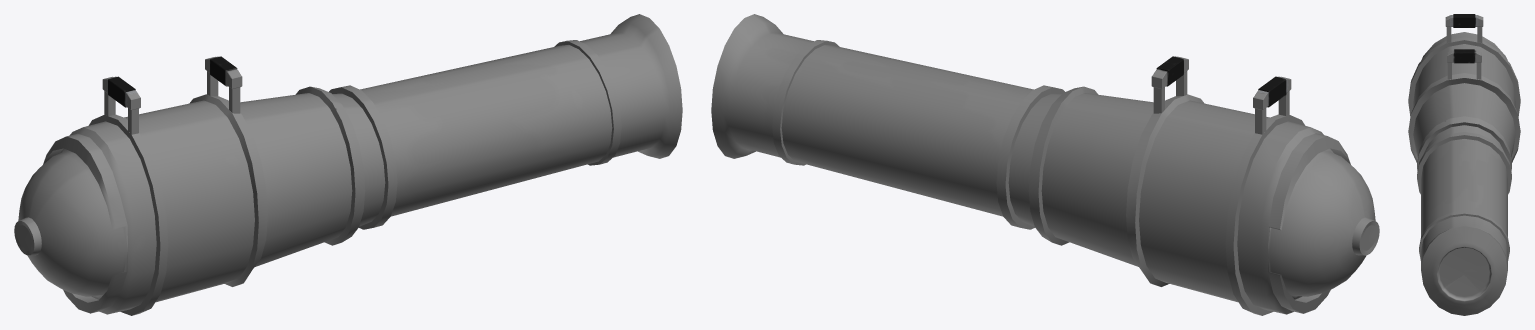
File: Cannon 2.fbx
The picture shows the model from 3 angles, left to right: view 1: azimuth 30°, elevation 25°; view 2: azimuth 150°, elevation 25°; view 3: azimuth 270°, elevation 25°; orthographic projection. The views are drawn at different scales.
Visible parts, largest first — view 1: Cannon3; view 2: Cannon3; view 3: Cannon3.
Boxes of the visible parts, x1,y1,x2,y2 form: Cannon3: [14, 14, 682, 315]; Cannon3: [711, 14, 1379, 315]; Cannon3: [1408, 14, 1520, 315].
Bounding box in the file's own units: 11.54 × 3.93 × 2.69.
Materials: 1 (1 with a texture image).
